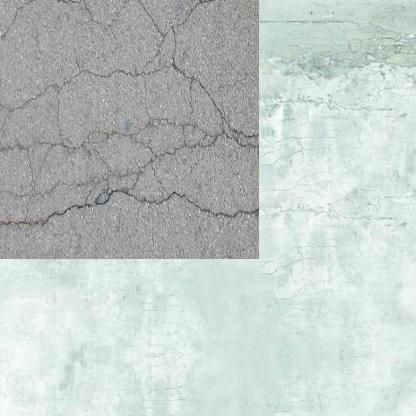Cracks: (0, 0, 239, 213)
